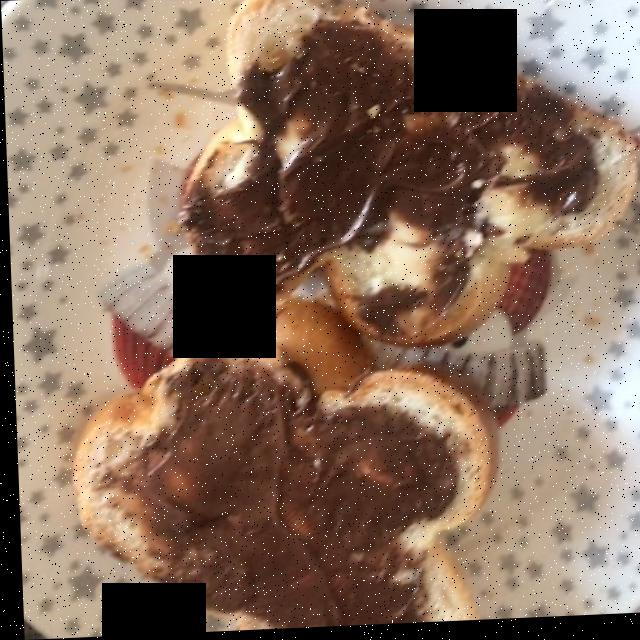braided-white-loaf: (73, 4, 624, 618)
butter: (340, 145, 588, 295)
hazelnut-chocolate-spread-nutella-ovomaltine-caotina: (99, 28, 589, 609)
